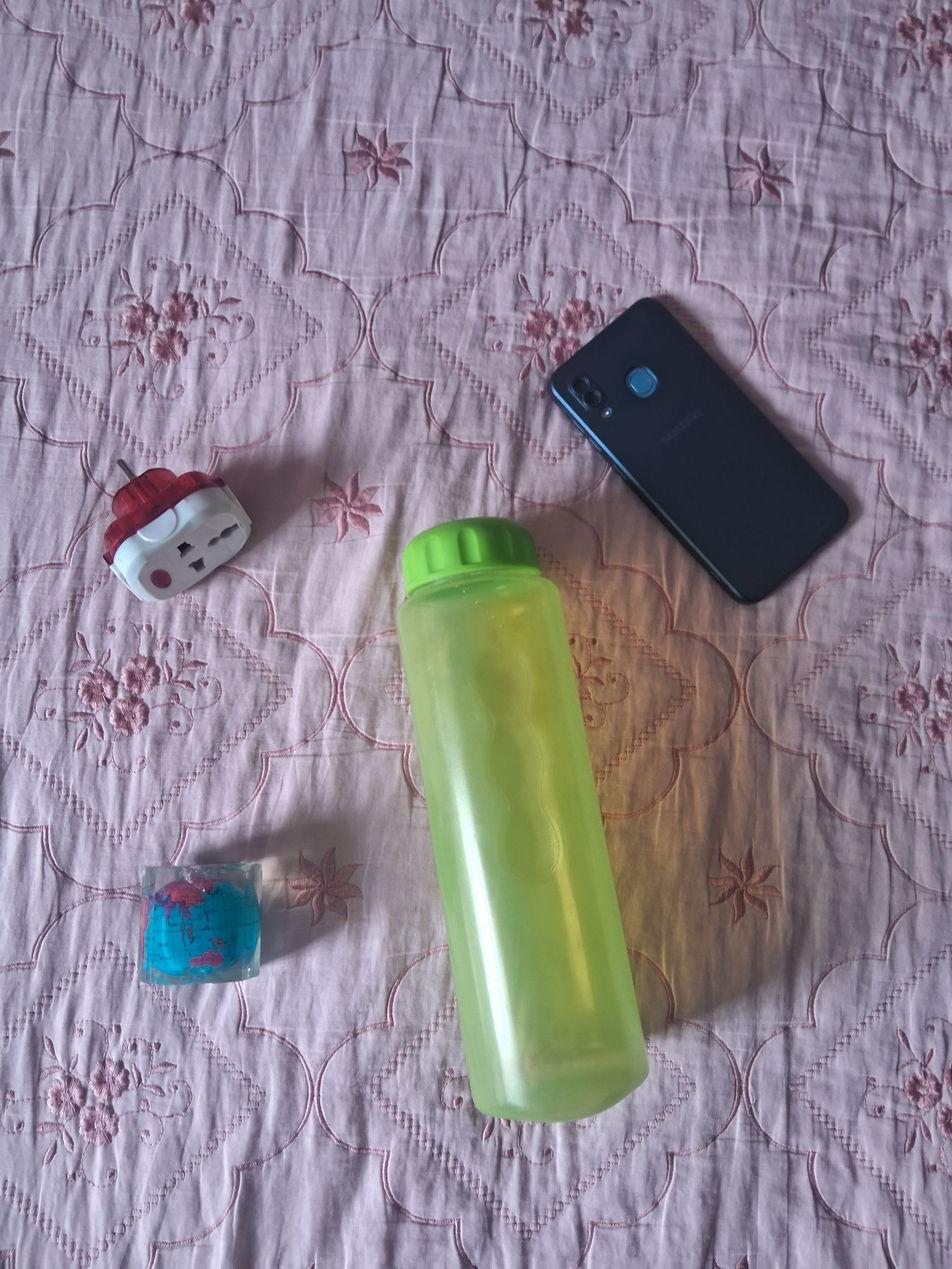Multi_adapter: (96, 444, 259, 607)
Smart_phone: (542, 290, 857, 609)
Water_bottle: (388, 513, 652, 1129)
world_globe: (132, 853, 272, 992)
